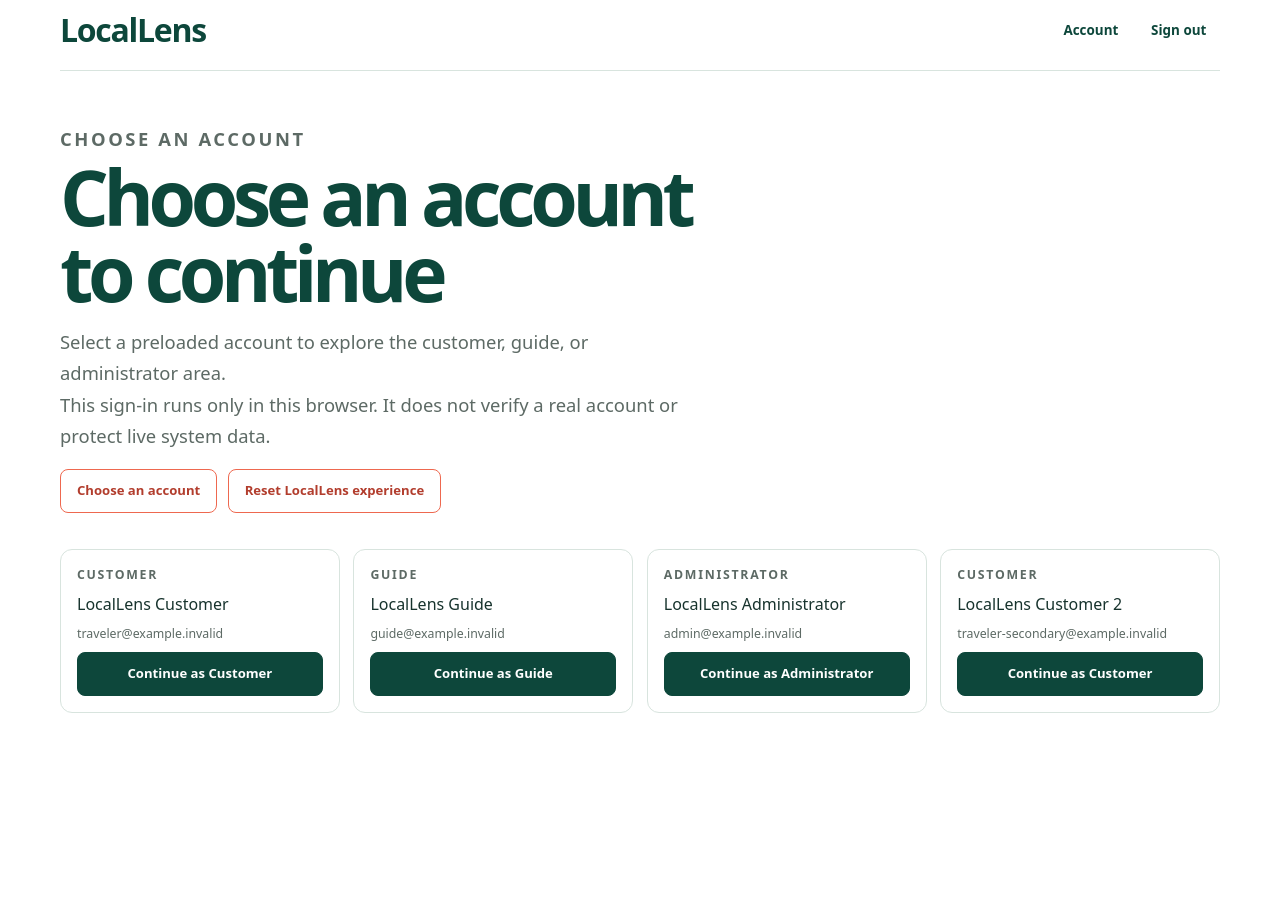
Scenario: PortalSurface › resets only LocalLens browser keys, signs out, and returns focus to sign-in
What coordinates should you click on to do the following:
click the button "Reset LocalLens experience"
I would click on:
 (334, 491)
Its box is [228, 469, 441, 513].
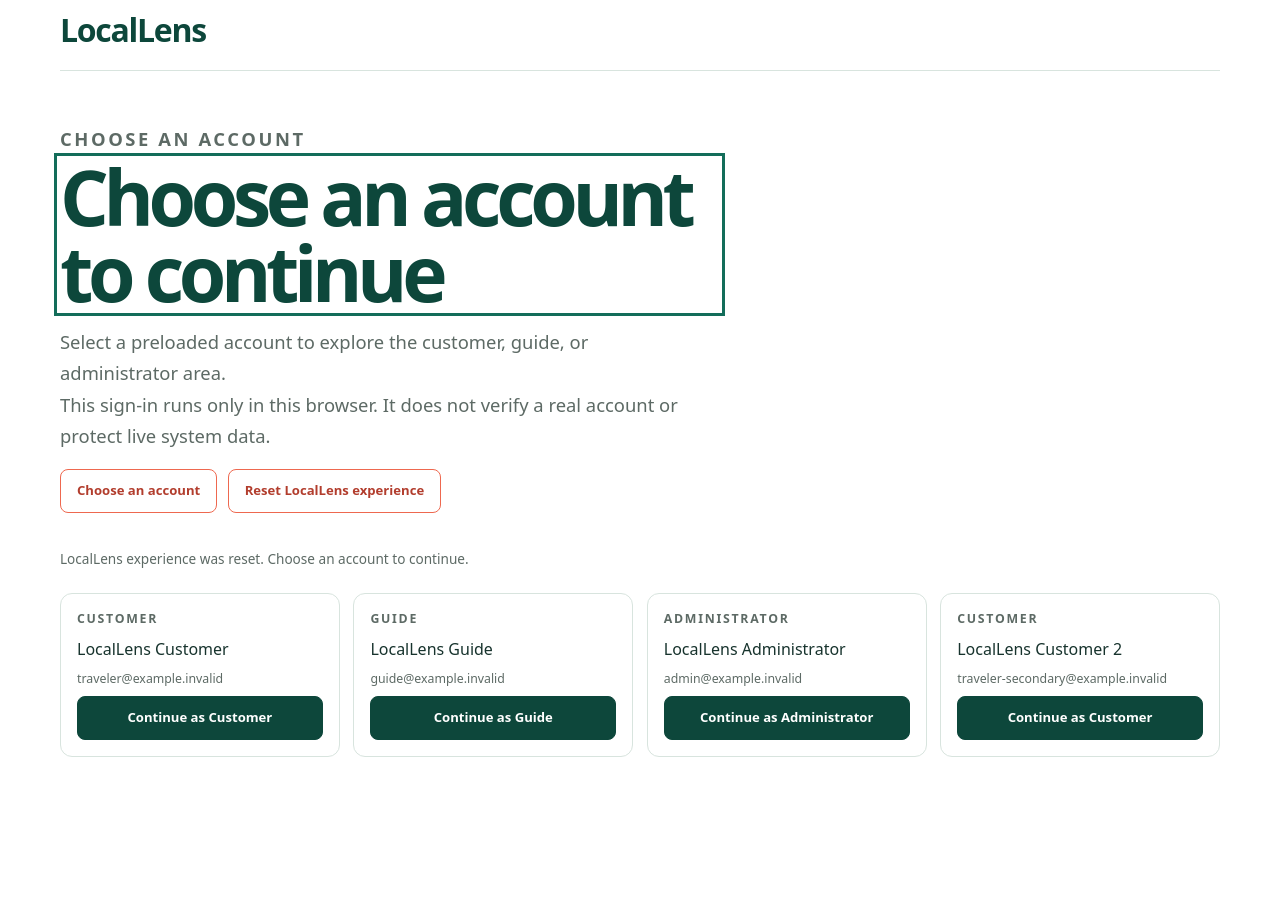
Now the message shows "experience was reset", box [60, 549, 469, 568]
